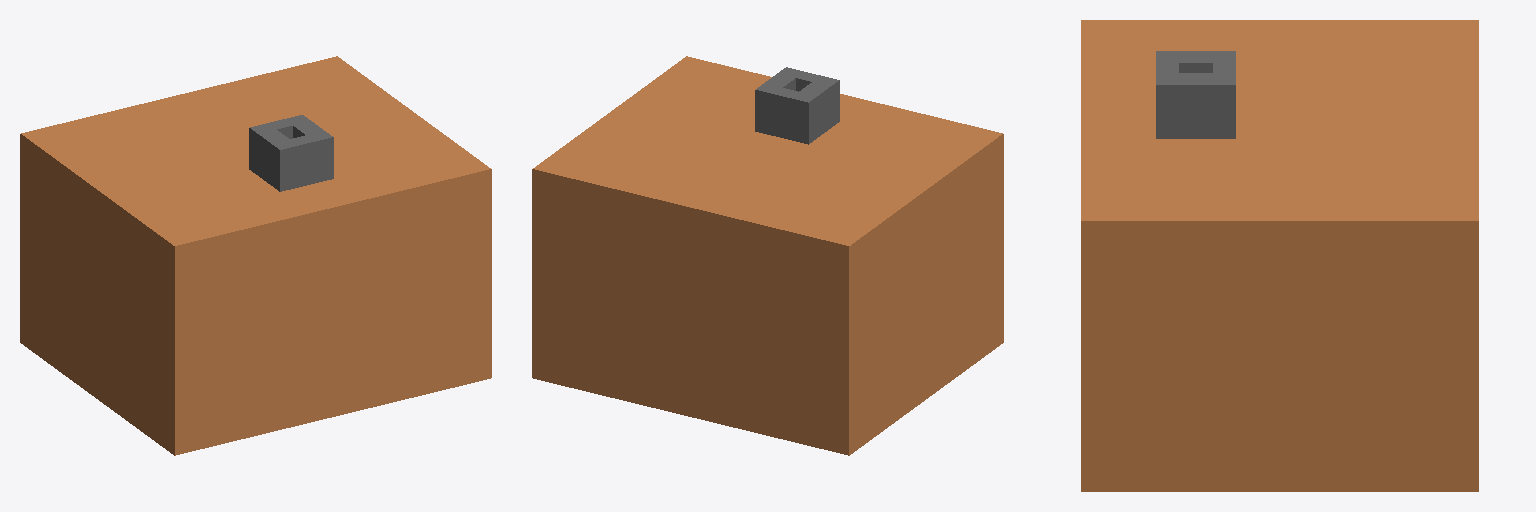
robot.urdf — peg_in_hole_scene_0074_tol07:
<?xml version="1.0"?>
<robot name="peg_in_hole_scene_0074_tol07">
  <material name="wood"><color rgba="0.82 0.56 0.35 1.0"/></material>
  <material name="hole_grey"><color rgba="0.4706 0.4706 0.4706 1.0"/></material>
  <link name="box">
    <visual>
      <origin xyz="0.000000 0.000000 0.000000" rpy="0 0 0"/>
      <geometry><box size="0.475000 0.400000 0.300000"/></geometry>
      <material name="wood"/>
    </visual>
    <collision>
      <origin xyz="0.000000 0.000000 0.000000" rpy="0 0 0"/>
      <geometry><box size="0.475000 0.400000 0.300000"/></geometry>
    </collision>
    <visual>
      <origin xyz="0.004509 -0.084138 0.155000" rpy="0 0 0"/>
      <geometry><box size="0.080000 0.080000 0.010000"/></geometry>
      <material name="hole_grey"/>
    </visual>
    <collision>
      <origin xyz="0.004509 -0.084138 0.155000" rpy="0 0 0"/>
      <geometry><box size="0.080000 0.080000 0.010000"/></geometry>
    </collision>
    <visual>
      <origin xyz="0.030613 -0.084138 0.185000" rpy="0 0 0"/>
      <geometry><box size="0.027792 0.080000 0.050000"/></geometry>
      <material name="hole_grey"/>
    </visual>
    <collision>
      <origin xyz="0.030613 -0.084138 0.185000" rpy="0 0 0"/>
      <geometry><box size="0.027792 0.080000 0.050000"/></geometry>
    </collision>
    <visual>
      <origin xyz="-0.021595 -0.084138 0.185000" rpy="0 0 0"/>
      <geometry><box size="0.027792 0.080000 0.050000"/></geometry>
      <material name="hole_grey"/>
    </visual>
    <collision>
      <origin xyz="-0.021595 -0.084138 0.185000" rpy="0 0 0"/>
      <geometry><box size="0.027792 0.080000 0.050000"/></geometry>
    </collision>
    <visual>
      <origin xyz="0.004509 -0.055534 0.185000" rpy="0 0 0"/>
      <geometry><box size="0.024416 0.022792 0.050000"/></geometry>
      <material name="hole_grey"/>
    </visual>
    <collision>
      <origin xyz="0.004509 -0.055534 0.185000" rpy="0 0 0"/>
      <geometry><box size="0.024416 0.022792 0.050000"/></geometry>
    </collision>
    <visual>
      <origin xyz="0.004509 -0.112742 0.185000" rpy="0 0 0"/>
      <geometry><box size="0.024416 0.022792 0.050000"/></geometry>
      <material name="hole_grey"/>
    </visual>
    <collision>
      <origin xyz="0.004509 -0.112742 0.185000" rpy="0 0 0"/>
      <geometry><box size="0.024416 0.022792 0.050000"/></geometry>
    </collision>
    <inertial>
      <mass value="500"/>
      <friction value="1.0"/>
      <inertia ixx="1000.0" ixy="0.0" ixz="0.0" iyy="1000.0" iyz="0.0" izz="1000.0"/>
    </inertial>
  </link>
</robot>

--- Render facts (derived) ---
3 views of the same robot in one strip: view 1: azimuth 30°, elevation 25°; view 2: azimuth 150°, elevation 25°; view 3: azimuth 270°, elevation 25° (orthographic).
Model peg_in_hole_scene_0074_tol07 with 1 links and 0 joints (none), rooted at box, posed all joints at 0.
Visible links, largest first — view 1: box; view 2: box; view 3: box.
Link boxes in pixels (box(x1,y1,x2,y2)): box: box(20, 56, 491, 455); box: box(532, 56, 1003, 455); box: box(1081, 20, 1478, 491).
Bounding box of the posed robot: 0.475 × 0.4 × 0.36 m (x, y, z).
Geometry: primitives only (box / cylinder / sphere), no mesh files.
